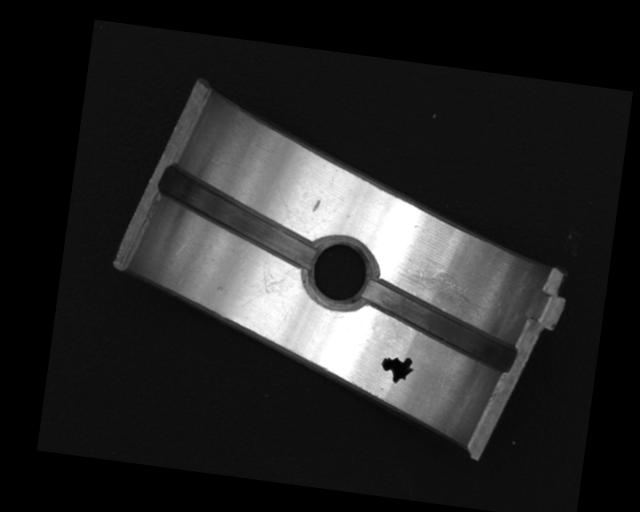blot: (378, 353, 416, 386)
bruise: (312, 198, 322, 214)
gap: (153, 165, 323, 268), (354, 280, 523, 373)
hole: (302, 237, 376, 314)
scratch: (391, 262, 495, 324)
